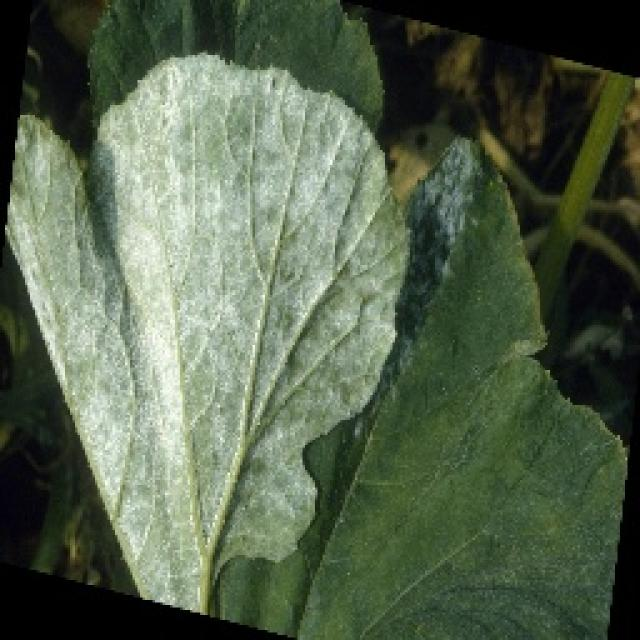Powdery Mildew: (6, 44, 382, 592)
